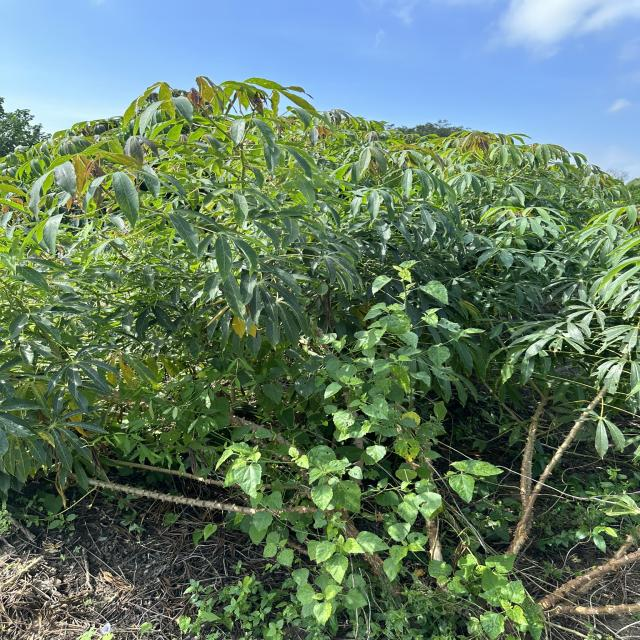Maleza: (250, 452, 534, 640), (110, 363, 441, 482), (334, 270, 473, 481)
